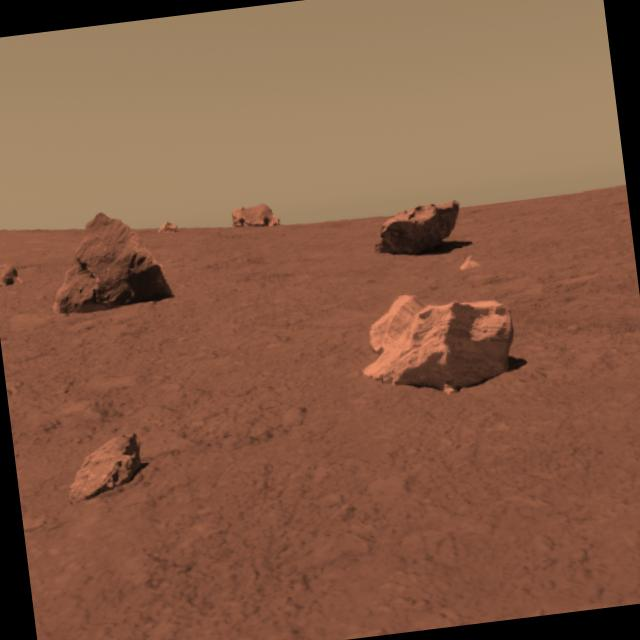rock: (352, 272, 527, 408), (40, 186, 184, 327), (64, 426, 150, 502), (370, 192, 462, 258)
